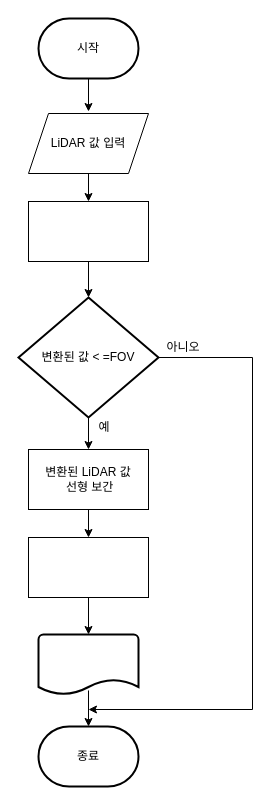
Image size: 278x804. Some labels were removed from this diagram. The shapes that lost their labels are listed below. From the top down, each one's centre as x and y in pixels, then its label:
At point 88,231: "입력 받은 LiDAR 값을 카메라와 동일 좌표로 변환".
At point 88,567: "카메라와 매핑".
At point 88,664: "변환된 LiDAR 값 출력".
